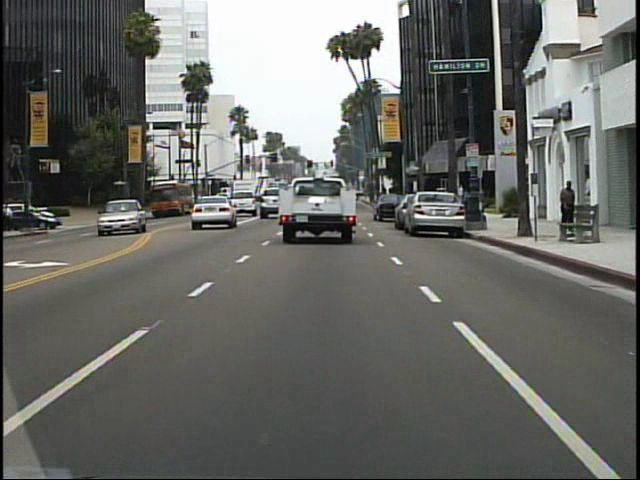person: (554, 177, 579, 231), (110, 193, 124, 222)
